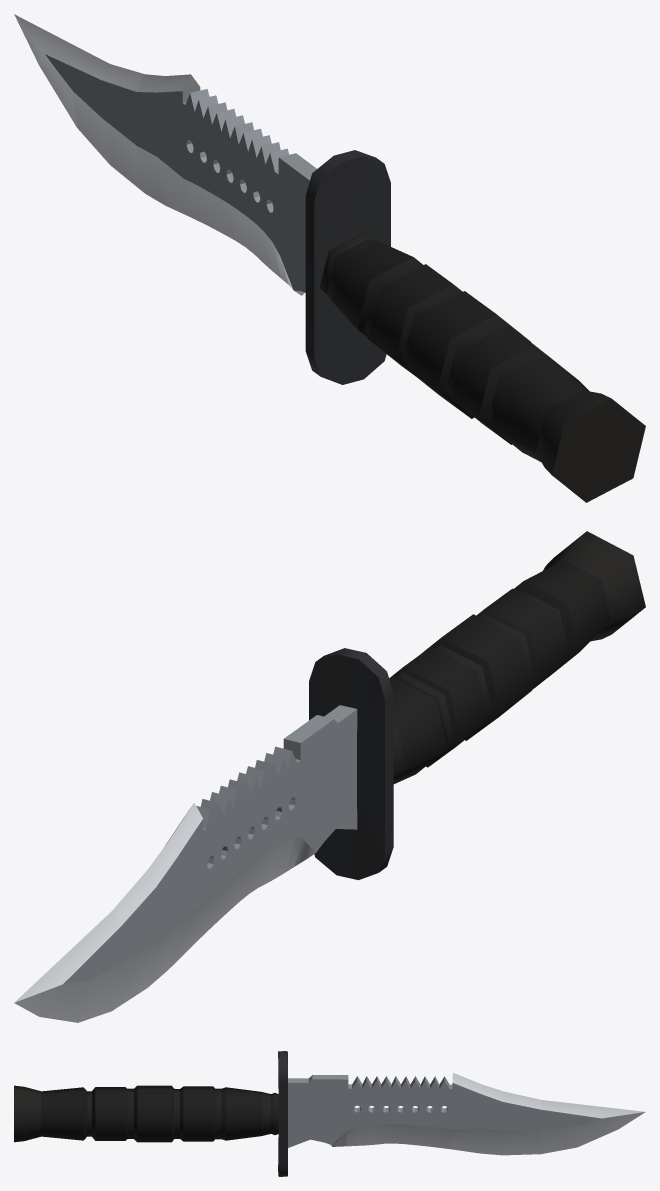
Rendered from knife.glb.
3 views of the same model, one above another, from view 1: azimuth 30°, elevation 25°; view 2: azimuth 150°, elevation 25°; view 3: azimuth 270°, elevation 25° (orthographic). The views are drawn at different scales.
Parts seen in each view (by area): view 1: knife; view 2: knife; view 3: knife.
Part boxes in pixels (x1=…): knife: x1=14, y1=14, x2=645, y2=502; knife: x1=14, y1=531, x2=645, y2=1022; knife: x1=14, y1=1051, x2=645, y2=1176.
Size of the model in its own units: 0.0277 by 0.0628 by 0.3.
1 material, 1 textured.
